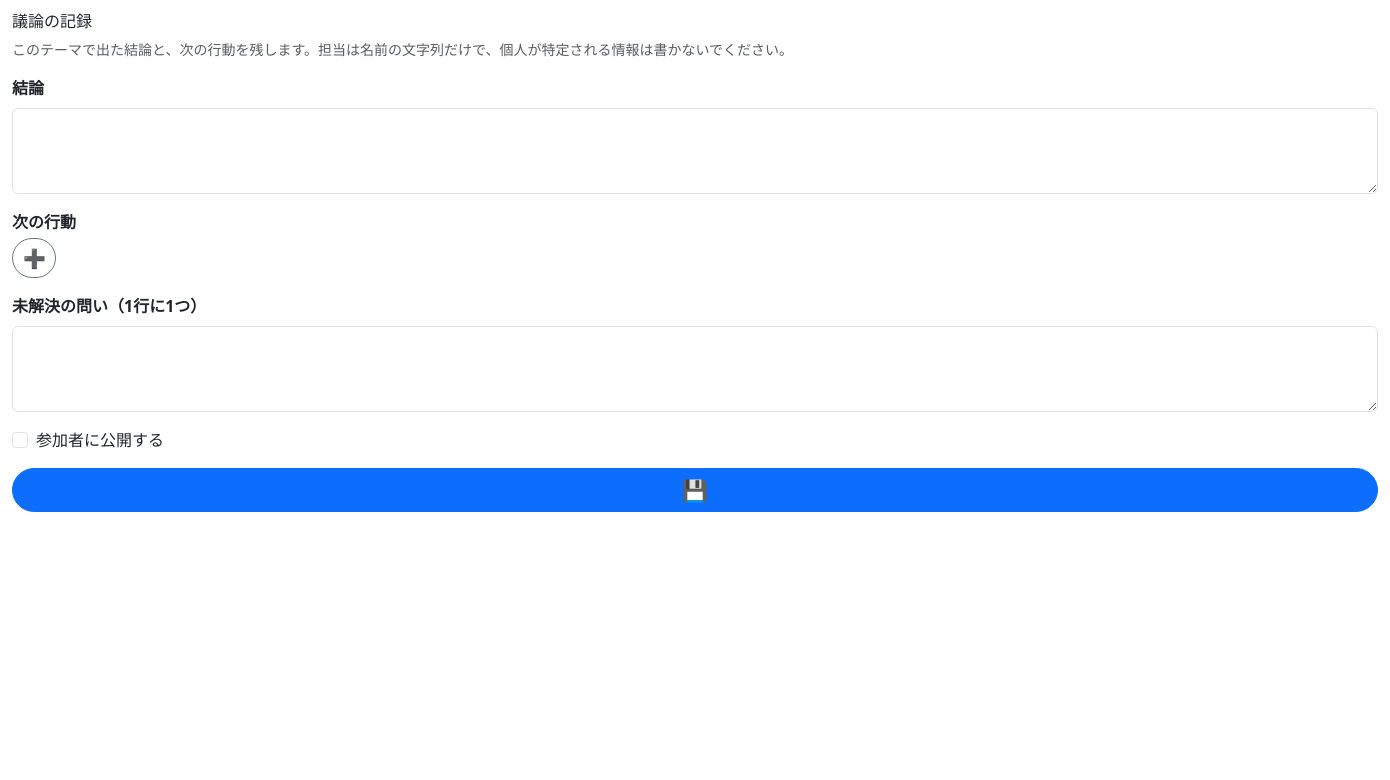
Scenario: NotesEditor › 保存に失敗したら、エラーを出す
Click the button named "記録を保存する". click: (695, 490)
box: [12, 468, 1378, 512]
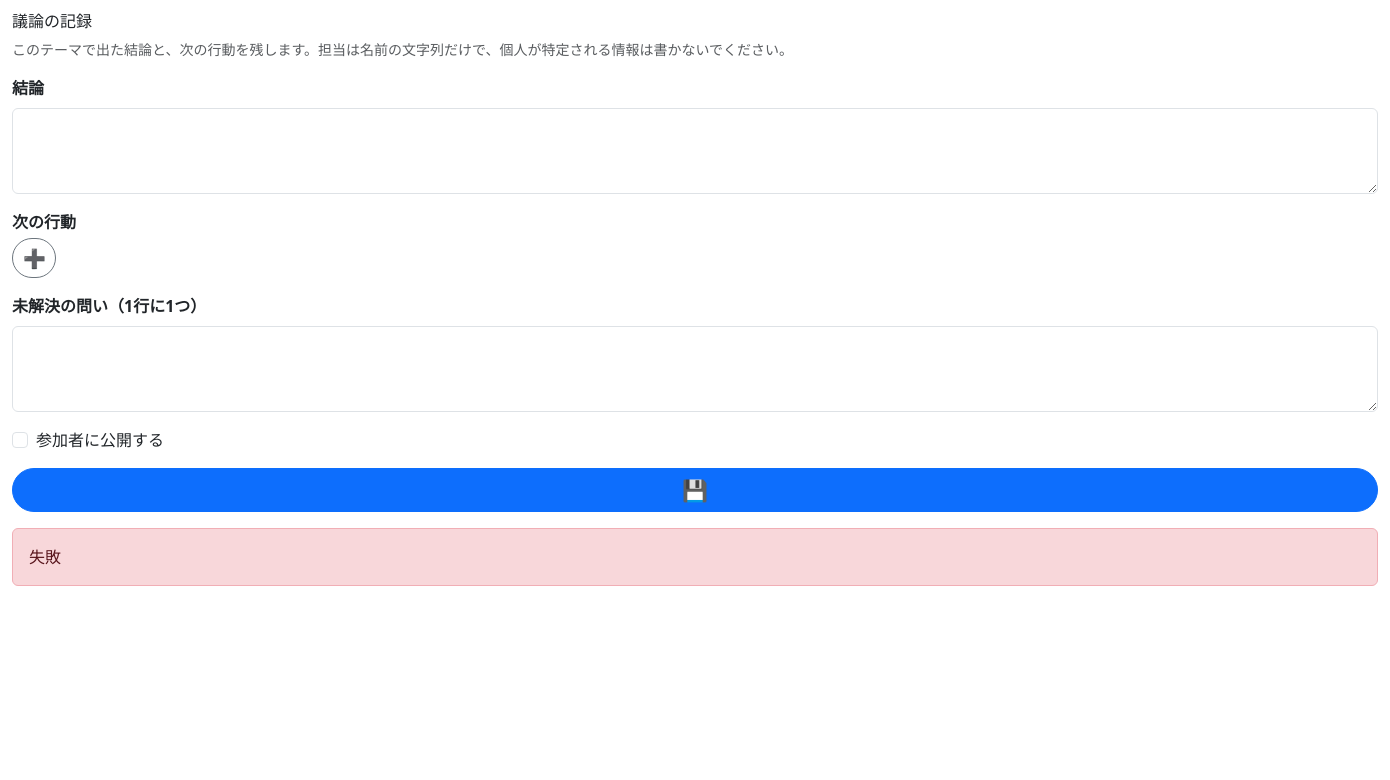
Result: the message reads "失敗" at [29, 546, 61, 568]
